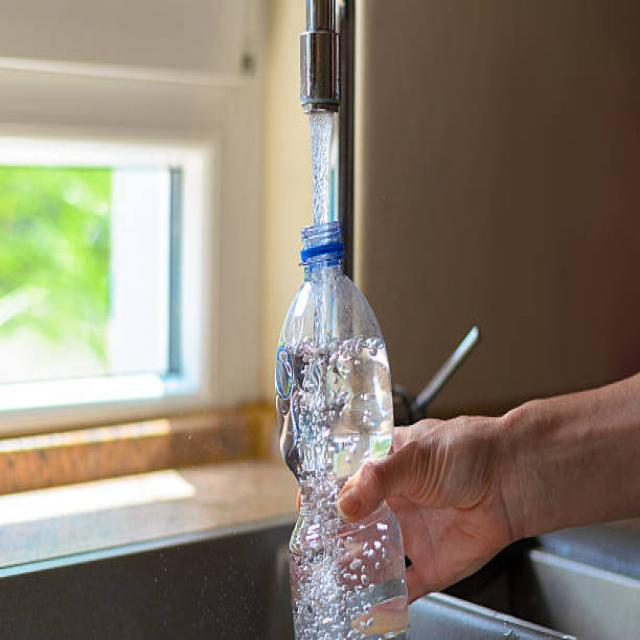plastic: (296, 230, 397, 637)
